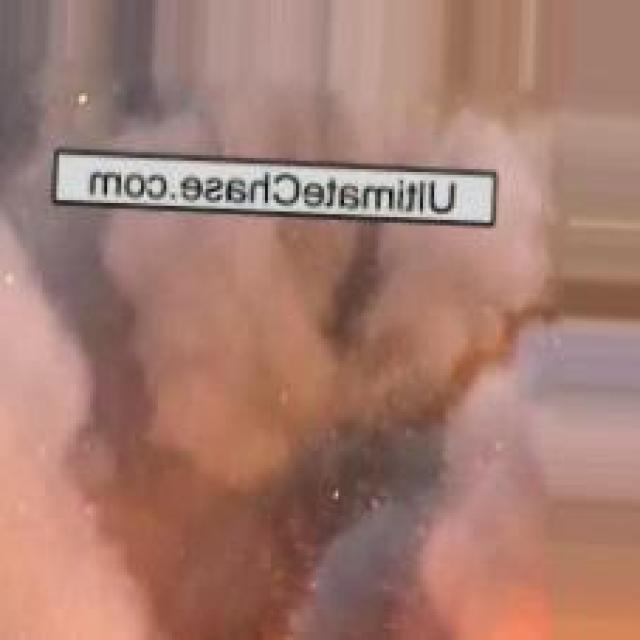smoke: (37, 205, 597, 609), (88, 27, 560, 158)
